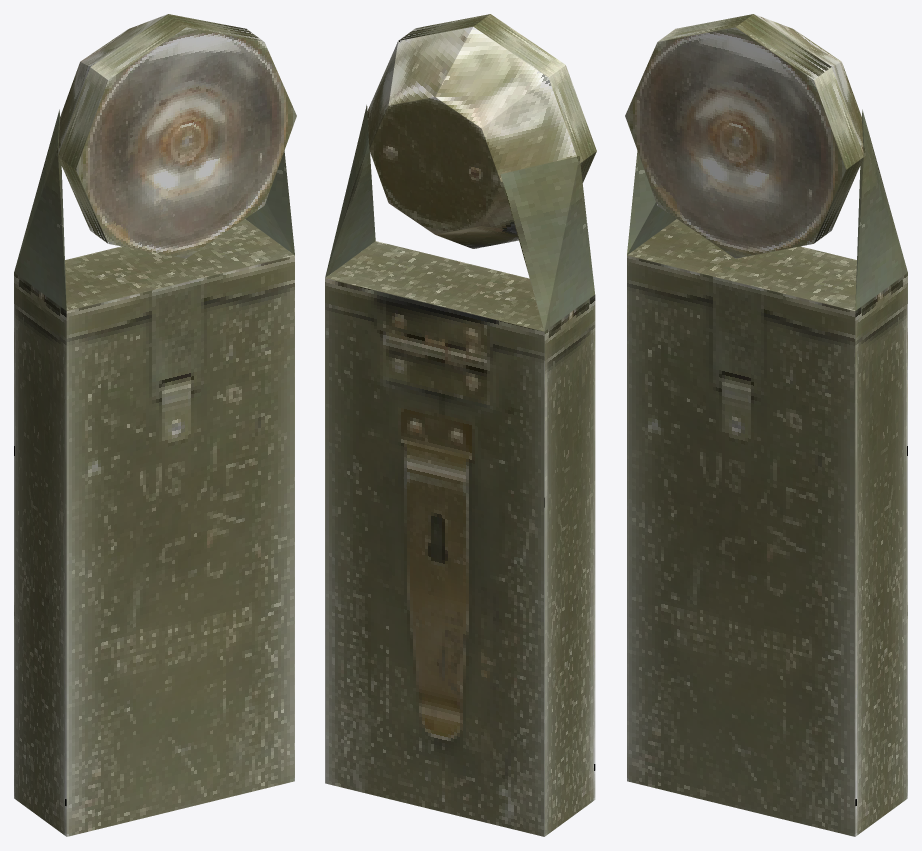
Rendered from ps1_-_ww2_-_flashlight (1).glb.
3 views of the same model, side by side, from view 1: azimuth 30°, elevation 25°; view 2: azimuth 150°, elevation 25°; view 3: azimuth 330°, elevation 25° (orthographic). The views are drawn at different scales.
Visible parts, largest first — view 1: ww2-flashlight-a; view 2: ww2-flashlight-a; view 3: ww2-flashlight-a.
Part boxes in pixels (x1,y1,x2,y2): ww2-flashlight-a: [14, 14, 296, 836]; ww2-flashlight-a: [325, 14, 596, 836]; ww2-flashlight-a: [625, 14, 907, 836].
Size of the model in its own units: 5 by 16.44 by 2.21.
1 material, 1 textured.
